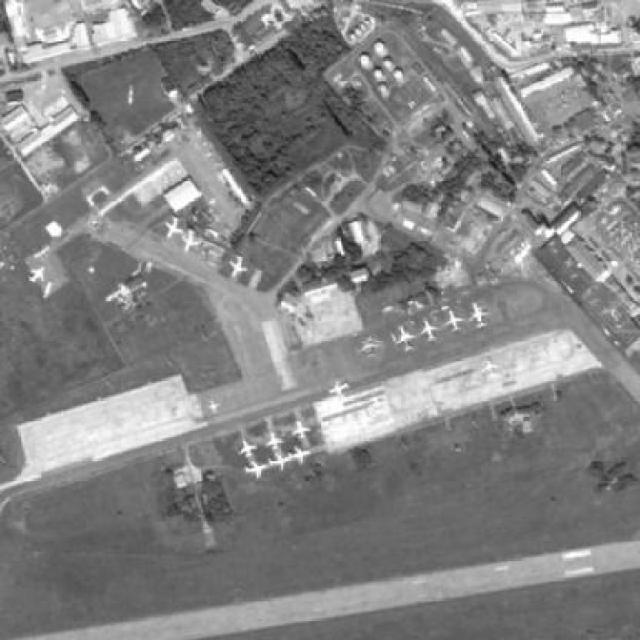airplane: (228, 256, 249, 284), (396, 326, 417, 353), (420, 316, 440, 344), (470, 303, 490, 330), (164, 216, 186, 240), (245, 461, 269, 483), (182, 231, 202, 257), (293, 417, 313, 442), (266, 430, 285, 455), (239, 437, 258, 462), (290, 448, 312, 468), (330, 380, 352, 399), (446, 310, 463, 334), (360, 338, 379, 358), (272, 454, 292, 473), (30, 264, 50, 283), (207, 399, 221, 417)
